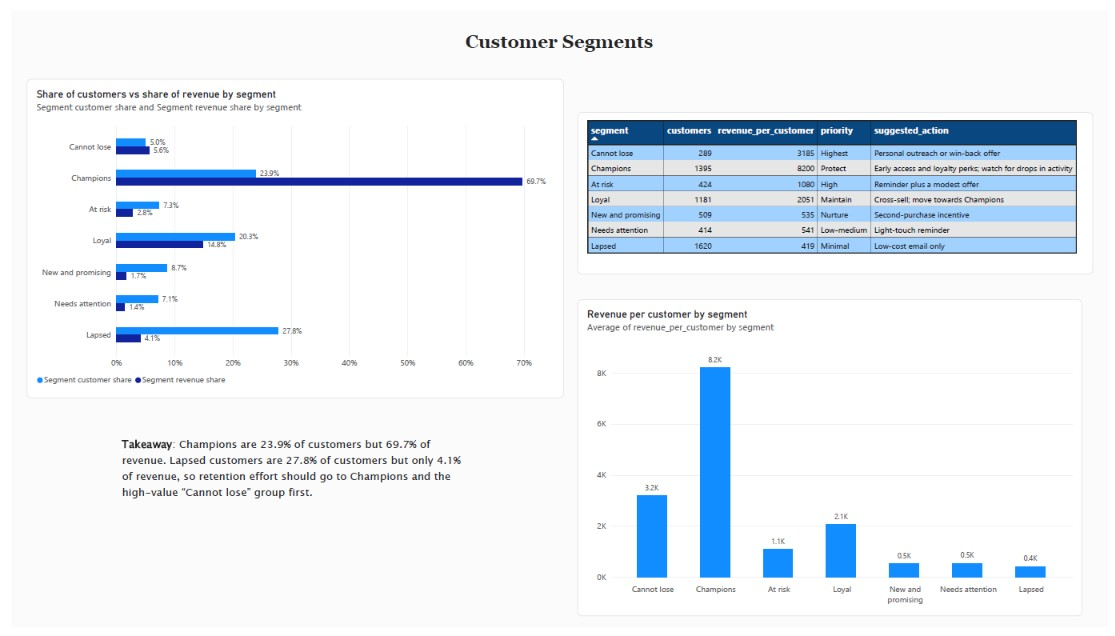

Layout of this report page (visuals, bound fields, positions):
{"tool":"powerbi","page":{"name":"Customer segments","canvas":[1920,1080],"ordinal":1},"visuals":[{"type":"tableEx","title":"Segment summary and suggested actions","fields":{"Values":["segment_summary.segment","segment_summary.customers","segment_summary.revenue_per_customer","segment_summary.priority","segment_summary.suggested_action"]},"box":[991.8,177.6,903.7,284.2],"z":0},{"type":"clusteredBarChart","title":"Share of customers vs share of revenue by segment","fields":{"Category":["segment_summary.segment"],"Y":["segment_summary.Segment customer share","segment_summary.Segment revenue share"]},"box":[26.5,120.4,941.7,558.3],"z":1000},{"type":"textbox","box":[0,36.7,1920,45],"z":2000},{"type":"textbox","box":[193.9,746.9,608.2,146.9],"z":2001},{"type":"clusteredColumnChart","title":"Revenue per customer by segment","fields":{"Category":["segment_summary.segment"],"Y":["Avg(segment_summary.revenue_per_customer)"]},"box":[991.8,506.1,883.7,555.1],"z":2002}]}

Visuals, with their boxes in screenshot pixels (x1, y1, x2, y2), scaled from the page's 1920x1080 canvas onto the 1115x636 screenshot:
"Segment summary and suggested actions" tableEx: select_region(576, 105, 1101, 272)
"Share of customers vs share of revenue by segment" clusteredBarChart: select_region(15, 71, 562, 400)
textbox: select_region(0, 22, 1114, 48)
textbox: select_region(113, 440, 466, 526)
"Revenue per customer by segment" clusteredColumnChart: select_region(576, 298, 1089, 625)
